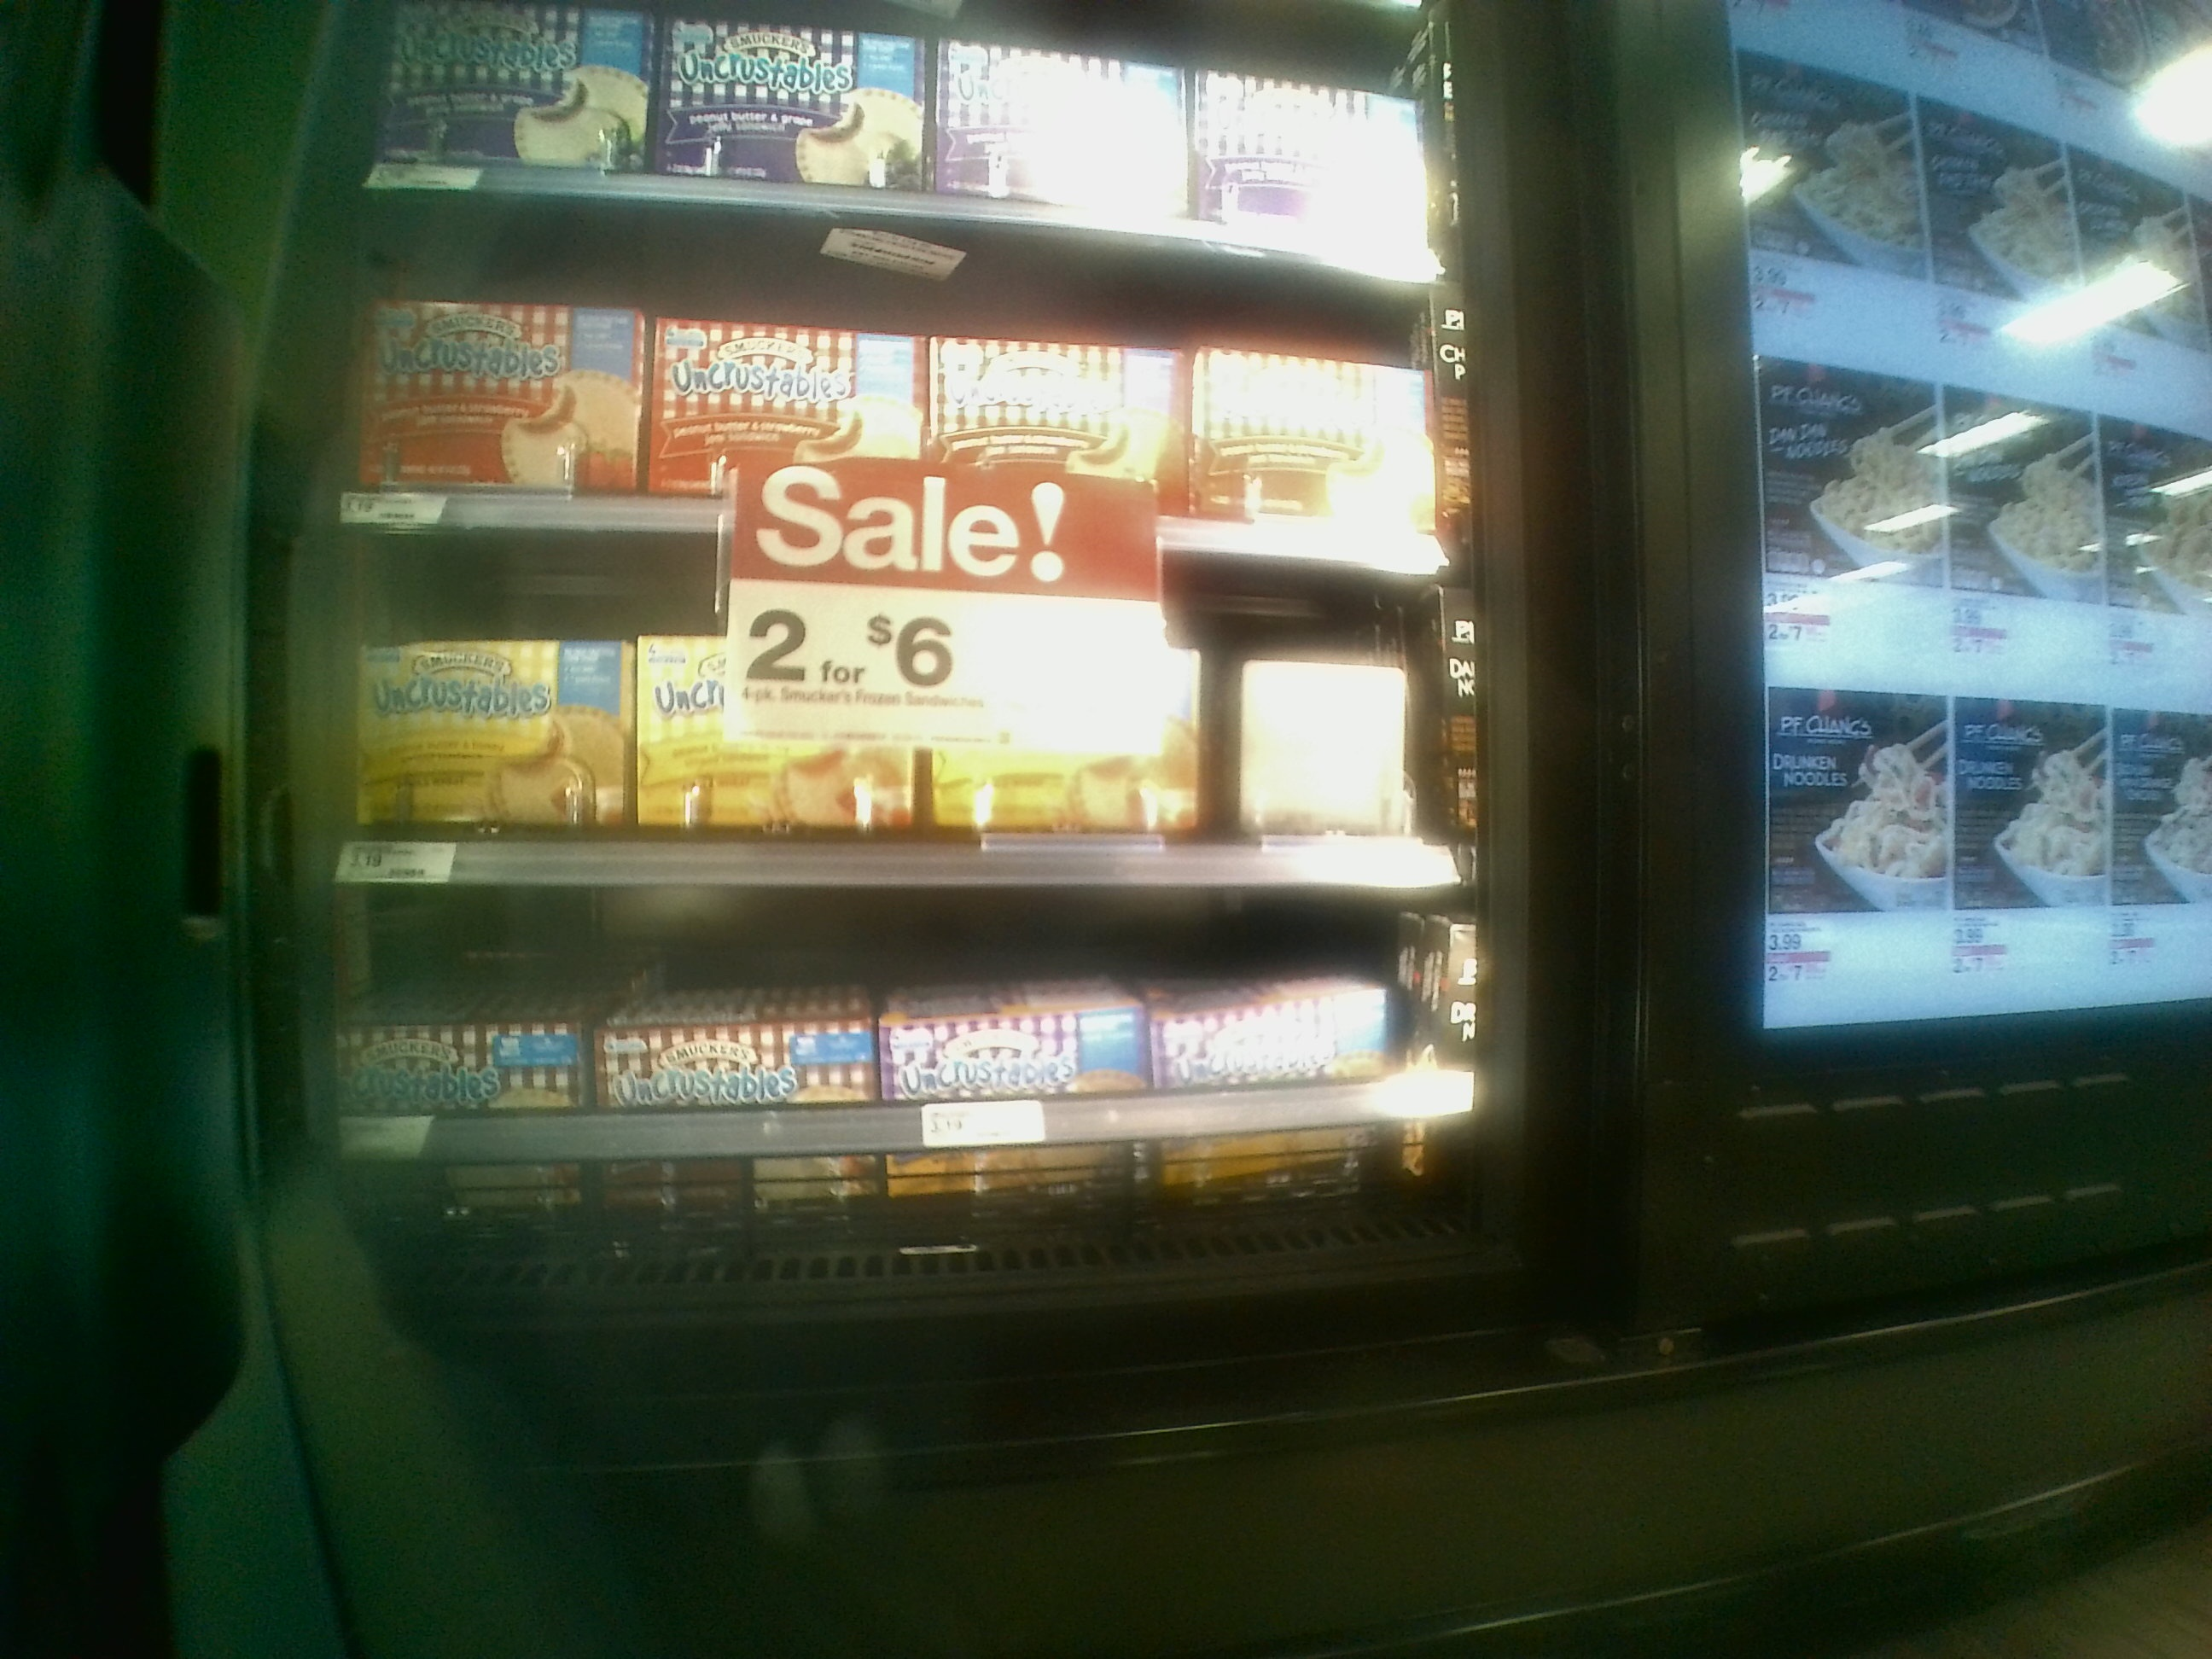shelf: (327, 845, 1475, 1281), (359, 178, 1432, 582), (322, 525, 1456, 878)
